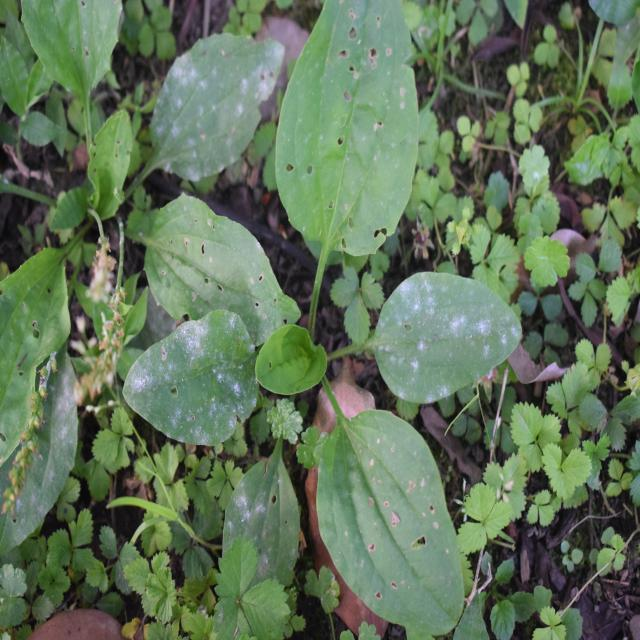plantain: (157, 40, 502, 629)
